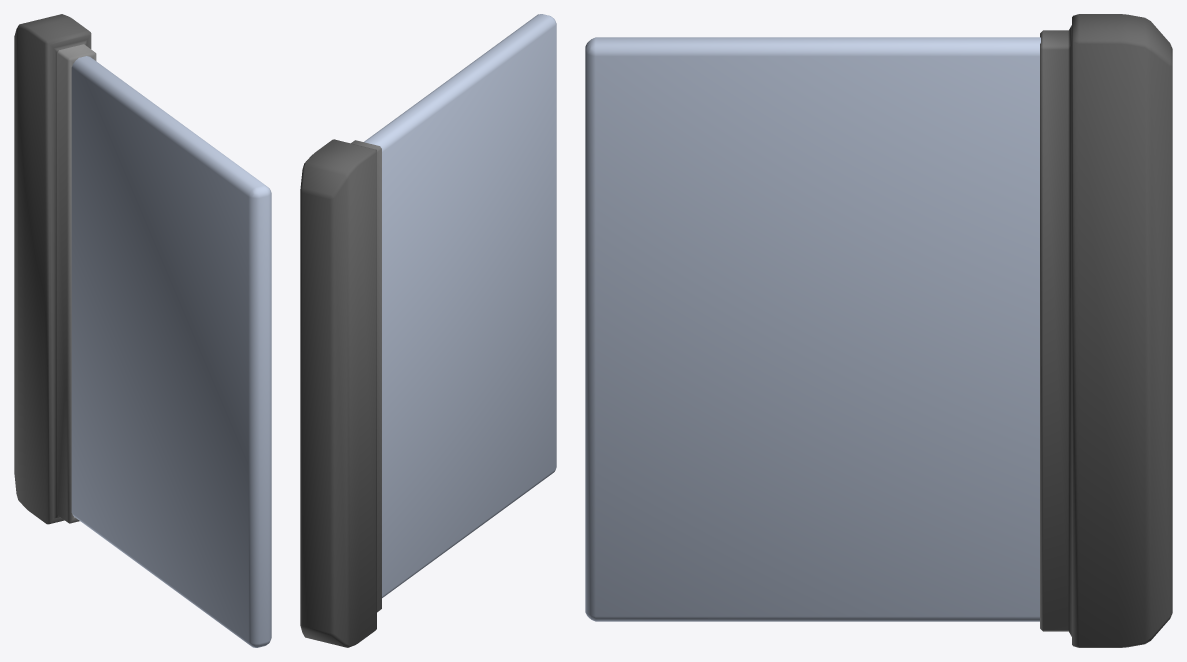
The model's file is Phone.fbx.
The picture shows the model from 3 angles, left to right: view 1: azimuth 30°, elevation 25°; view 2: azimuth 150°, elevation 25°; view 3: azimuth 270°, elevation 25°; orthographic projection. The views are drawn at different scales.
Visible parts, largest first — view 1: Cube; view 2: Cube; view 3: Cube.
Boxes of the visible parts, x1,y1,x2,y2 form: Cube: [14, 14, 271, 647]; Cube: [300, 14, 556, 647]; Cube: [585, 14, 1172, 647].
Size of the model in its own units: 20 by 200 by 175.
